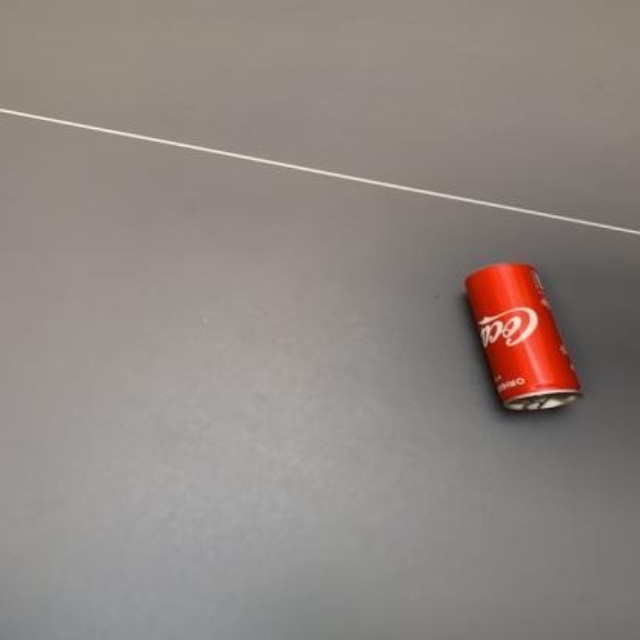trash: (466, 263, 578, 409)
